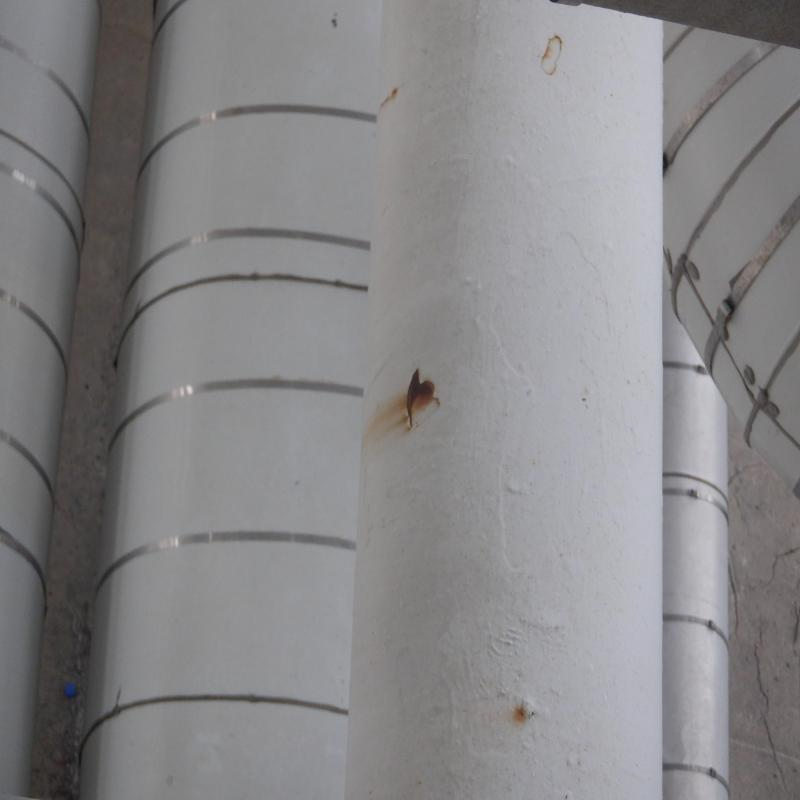corrosion: (405, 369, 443, 436), (514, 700, 536, 727)
